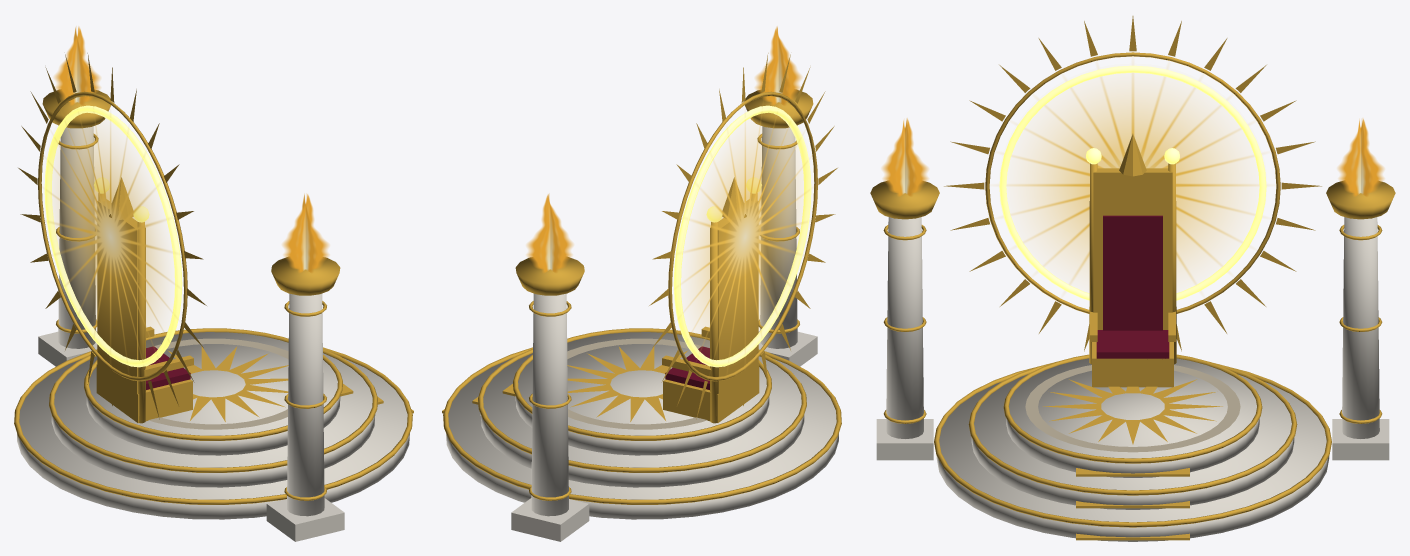
File: god_throne.glb
3 renders of one model, left to right at view 1: azimuth 30°, elevation 25°; view 2: azimuth 150°, elevation 25°; view 3: azimuth 270°, elevation 25°, orthographic.
Parts seen in each view (by area): view 1: god_throne_thr_marble, god_throne_thr_gold, god_throne_thr_sun, god_throne_thr_glow, god_throne_thr_fire, god_throne_thr_vein, god_throne_thr_velvet; view 2: god_throne_thr_marble, god_throne_thr_gold, god_throne_thr_sun, god_throne_thr_glow, god_throne_thr_fire, god_throne_thr_vein, god_throne_thr_velvet; view 3: god_throne_thr_marble, god_throne_thr_gold, god_throne_thr_sun, god_throne_thr_velvet, god_throne_thr_glow, god_throne_thr_fire, god_throne_thr_vein.
Boxes of the visible parts, bbox=[...] form: god_throne_thr_marble: bbox=[17, 126, 409, 541]; god_throne_thr_gold: bbox=[14, 53, 413, 504]; god_throne_thr_sun: bbox=[46, 112, 174, 362]; god_throne_thr_glow: bbox=[44, 105, 182, 367]; god_throne_thr_fire: bbox=[54, 26, 328, 272]; god_throne_thr_vein: bbox=[148, 338, 288, 429]; god_throne_thr_velvet: bbox=[146, 346, 190, 389]; god_throne_thr_marble: bbox=[446, 126, 838, 541]; god_throne_thr_gold: bbox=[442, 53, 841, 504]; god_throne_thr_sun: bbox=[681, 112, 809, 362]; god_throne_thr_glow: bbox=[673, 105, 811, 367]; god_throne_thr_fire: bbox=[527, 26, 801, 272]; god_throne_thr_vein: bbox=[567, 338, 707, 429]; god_throne_thr_velvet: bbox=[665, 346, 709, 389]; god_throne_thr_marble: bbox=[876, 217, 1389, 541]; god_throne_thr_gold: bbox=[870, 16, 1395, 540]; god_throne_thr_sun: bbox=[1007, 73, 1258, 284]; god_throne_thr_velvet: bbox=[1096, 215, 1169, 358]; god_throne_thr_glow: bbox=[999, 65, 1266, 300]; god_throne_thr_fire: bbox=[882, 118, 1384, 196]; god_throne_thr_vein: bbox=[1025, 365, 1240, 452].
Bounding box in the file's own units: 6.29 × 6.9 × 8.3.
7 materials, 2 textured.
